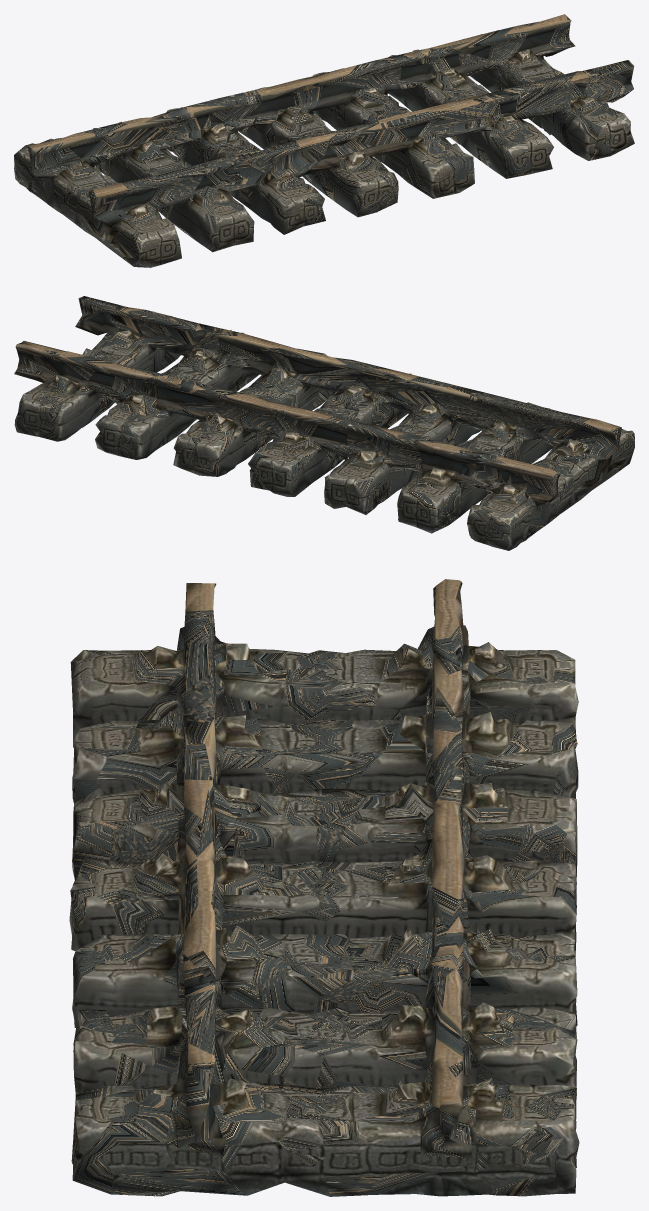
The model's file is railroad_track_08.glb.
The picture shows the model from 3 angles, top to bottom: view 1: azimuth 30°, elevation 25°; view 2: azimuth 150°, elevation 25°; view 3: azimuth 270°, elevation 25°; orthographic projection. The views are drawn at different scales.
Visible parts, largest first — view 1: tripo_node_f651e7d6-85ae-47e5-9037-5a856e5baf41; view 2: tripo_node_f651e7d6-85ae-47e5-9037-5a856e5baf41; view 3: tripo_node_f651e7d6-85ae-47e5-9037-5a856e5baf41.
Part boxes in pixels (box(x1,y1,x2,y2)): tripo_node_f651e7d6-85ae-47e5-9037-5a856e5baf41: box(14, 14, 634, 267); tripo_node_f651e7d6-85ae-47e5-9037-5a856e5baf41: box(14, 296, 634, 550); tripo_node_f651e7d6-85ae-47e5-9037-5a856e5baf41: box(69, 579, 579, 1196).
Size of the model in its own units: 0.9814 by 0.1057 by 0.4028.
Materials: 1 (1 with a texture image).
